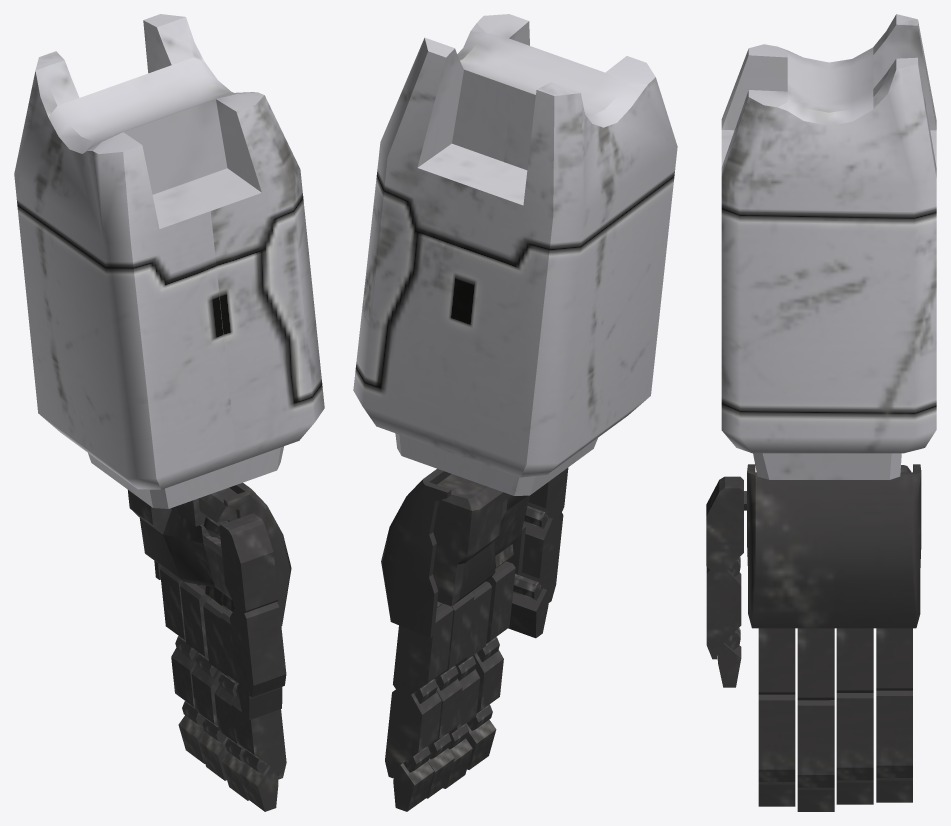
The model's file is hand2.obj.
3 views of the same model, side by side, from view 1: azimuth 30°, elevation 25°; view 2: azimuth 150°, elevation 25°; view 3: azimuth 270°, elevation 25° (orthographic). The views are drawn at different scales.
Parts seen in each view (by area): view 1: uploads_files_730998_Gundam:polySurface666 polySurface13, uploads_files_730998_Gundam:polySurface666 polySurface68, uploads_files_730998_Gundam:polySurface666 polySurface67, uploads_files_730998_Gundam:polySurface666 polySurface70, uploads_files_730998_Gundam:polySurface666 polySurface72, uploads_files_730998_Gundam:polySurface666 polySurface73, uploads_files_730998_Gundam:polySurface666 polySurface71, uploads_files_730998_Gundam:polySurface666 polySurface65; view 2: uploads_files_730998_Gundam:polySurface666 polySurface13, uploads_files_730998_Gundam:polySurface666 polySurface67, uploads_files_730998_Gundam:polySurface666 polySurface73, uploads_files_730998_Gundam:polySurface666 polySurface65, uploads_files_730998_Gundam:polySurface666 polySurface68, uploads_files_730998_Gundam:polySurface666 polySurface70, uploads_files_730998_Gundam:polySurface666 polySurface72, uploads_files_730998_Gundam:polySurface666 polySurface71; view 3: uploads_files_730998_Gundam:polySurface666 polySurface13, uploads_files_730998_Gundam:polySurface666 polySurface65, uploads_files_730998_Gundam:polySurface666 polySurface71, uploads_files_730998_Gundam:polySurface666 polySurface70, uploads_files_730998_Gundam:polySurface666 polySurface72, uploads_files_730998_Gundam:polySurface666 polySurface68, uploads_files_730998_Gundam:polySurface666 polySurface73.
Part boxes in pixels (<box>): uploads_files_730998_Gundam:polySurface666 polySurface13: <box>14,14,324,508</box>; uploads_files_730998_Gundam:polySurface666 polySurface68: <box>219,513,286,720</box>; uploads_files_730998_Gundam:polySurface666 polySurface67: <box>128,487,237,599</box>; uploads_files_730998_Gundam:polySurface666 polySurface70: <box>220,610,286,811</box>; uploads_files_730998_Gundam:polySurface666 polySurface72: <box>180,582,228,780</box>; uploads_files_730998_Gundam:polySurface666 polySurface73: <box>160,566,205,763</box>; uploads_files_730998_Gundam:polySurface666 polySurface71: <box>203,599,248,800</box>; uploads_files_730998_Gundam:polySurface666 polySurface65: <box>154,482,291,626</box>; uploads_files_730998_Gundam:polySurface666 polySurface13: <box>353,14,677,495</box>; uploads_files_730998_Gundam:polySurface666 polySurface67: <box>433,474,529,606</box>; uploads_files_730998_Gundam:polySurface666 polySurface73: <box>385,603,453,811</box>; uploads_files_730998_Gundam:polySurface666 polySurface65: <box>381,468,525,638</box>; uploads_files_730998_Gundam:polySurface666 polySurface68: <box>508,468,568,638</box>; uploads_files_730998_Gundam:polySurface666 polySurface70: <box>466,561,515,769</box>; uploads_files_730998_Gundam:polySurface666 polySurface72: <box>426,592,474,798</box>; uploads_files_730998_Gundam:polySurface666 polySurface71: <box>443,581,491,788</box>; uploads_files_730998_Gundam:polySurface666 polySurface13: <box>721,14,936,479</box>; uploads_files_730998_Gundam:polySurface666 polySurface65: <box>747,464,921,628</box>; uploads_files_730998_Gundam:polySurface666 polySurface71: <box>797,628,834,811</box>; uploads_files_730998_Gundam:polySurface666 polySurface70: <box>758,628,795,806</box>; uploads_files_730998_Gundam:polySurface666 polySurface72: <box>836,628,873,804</box>; uploads_files_730998_Gundam:polySurface666 polySurface68: <box>706,476,743,687</box>; uploads_files_730998_Gundam:polySurface666 polySurface73: <box>876,628,912,802</box>.
Bounding box in the file's own units: 2.14 × 6.9 × 1.96.
1 material, 1 textured.
